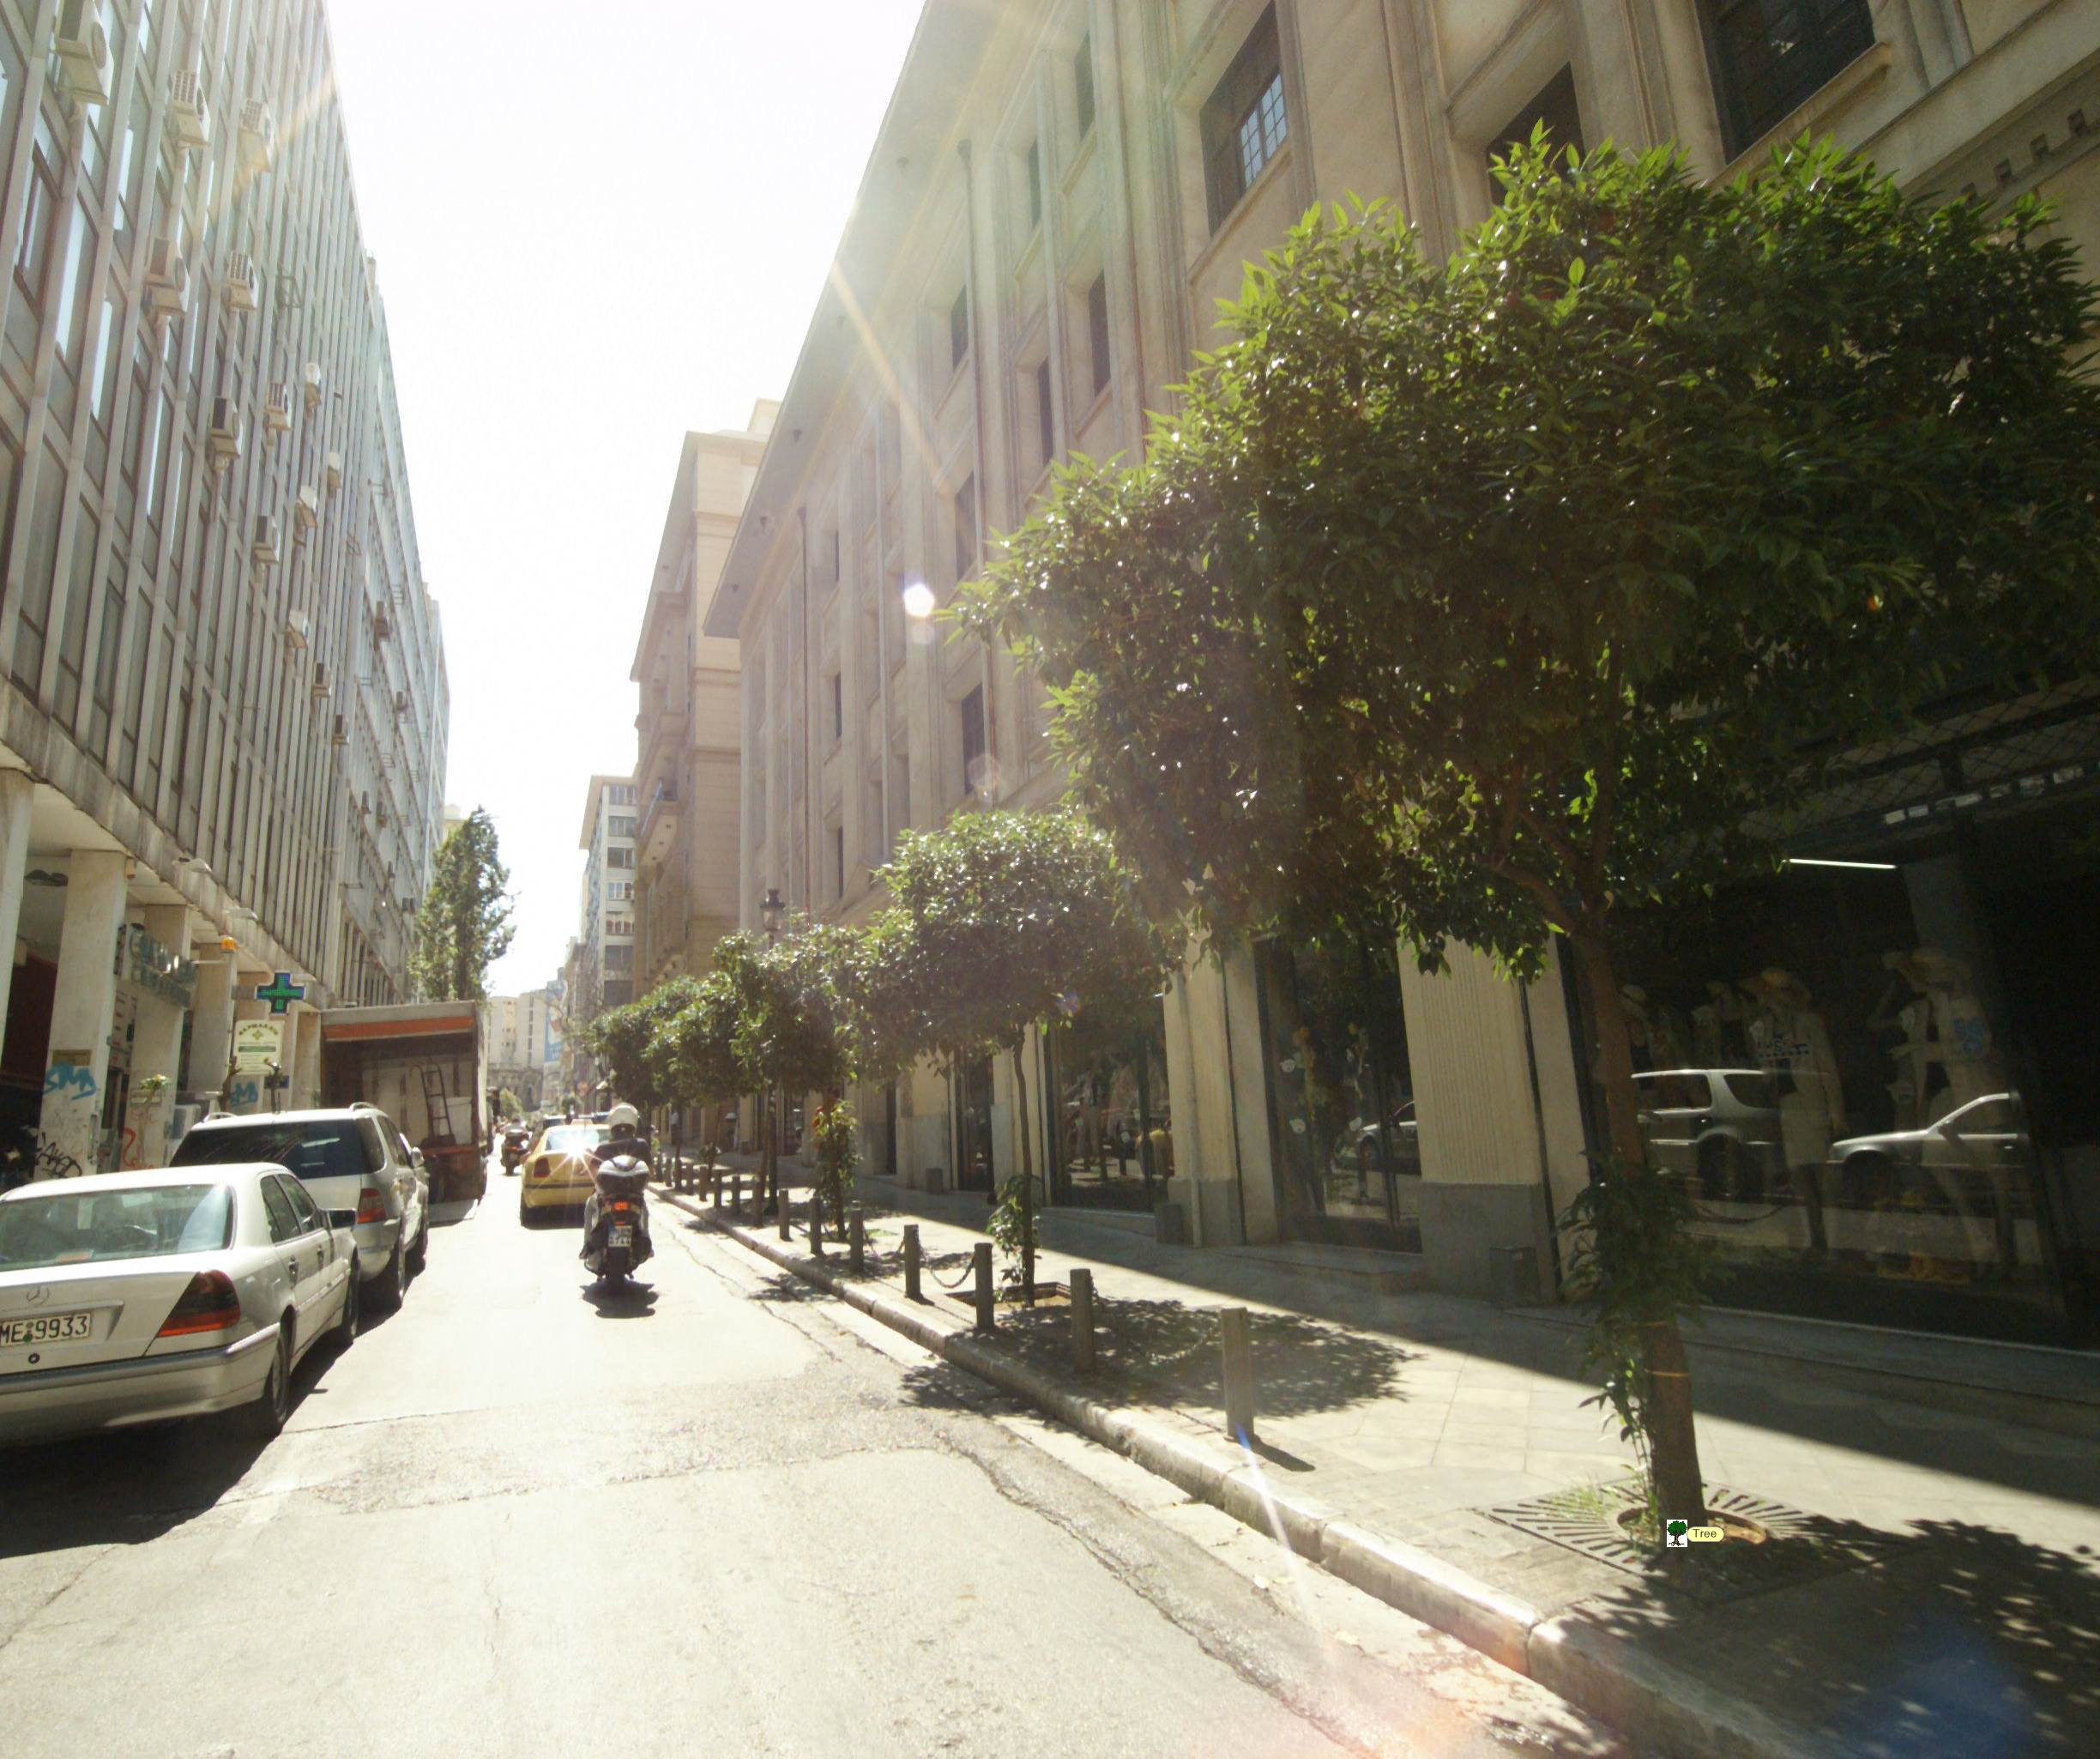tree: (848, 782, 1202, 1419)
